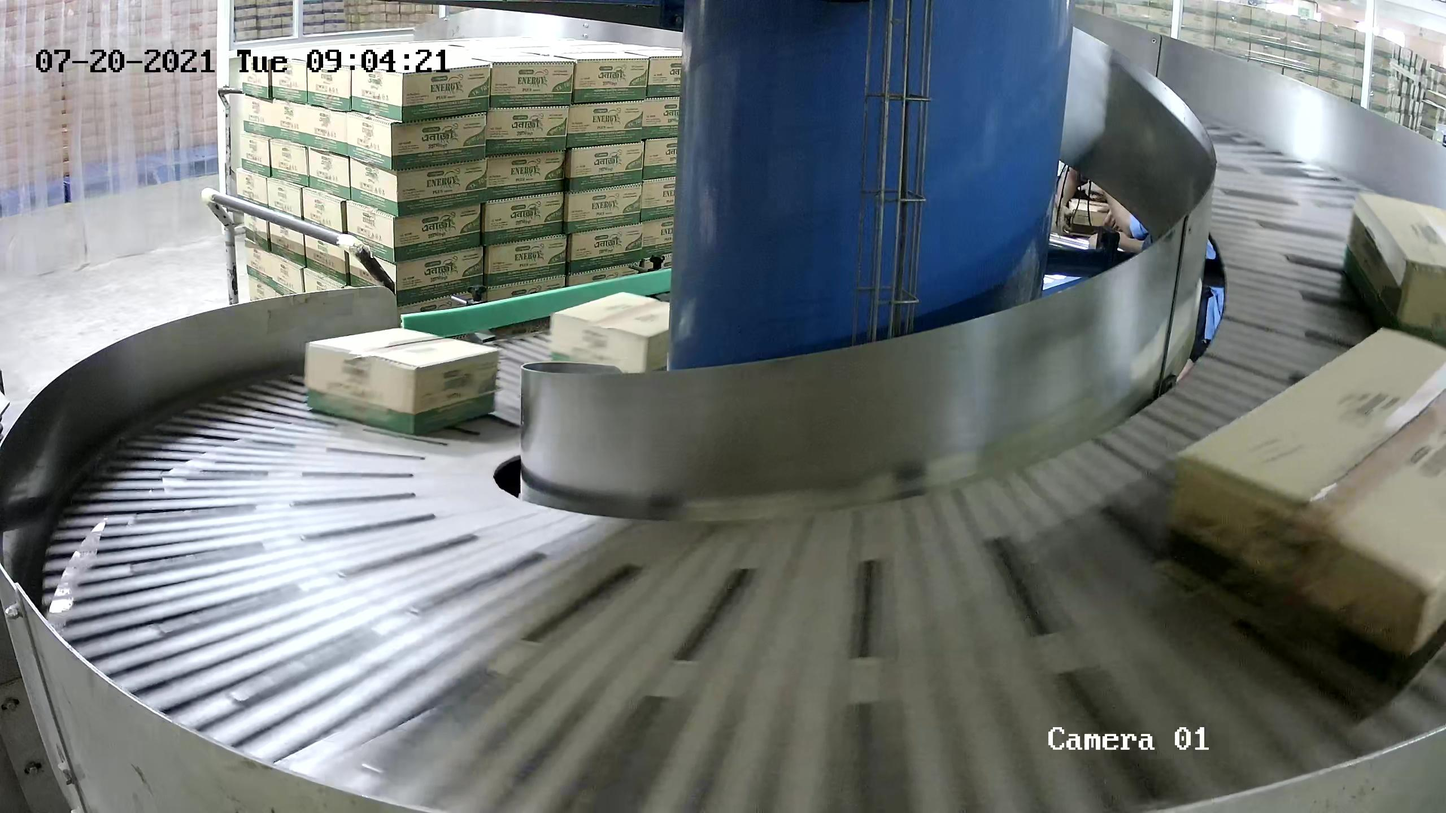Box: (1158, 325, 1446, 706), (304, 327, 499, 434), (1341, 190, 1446, 356), (549, 291, 697, 391)
